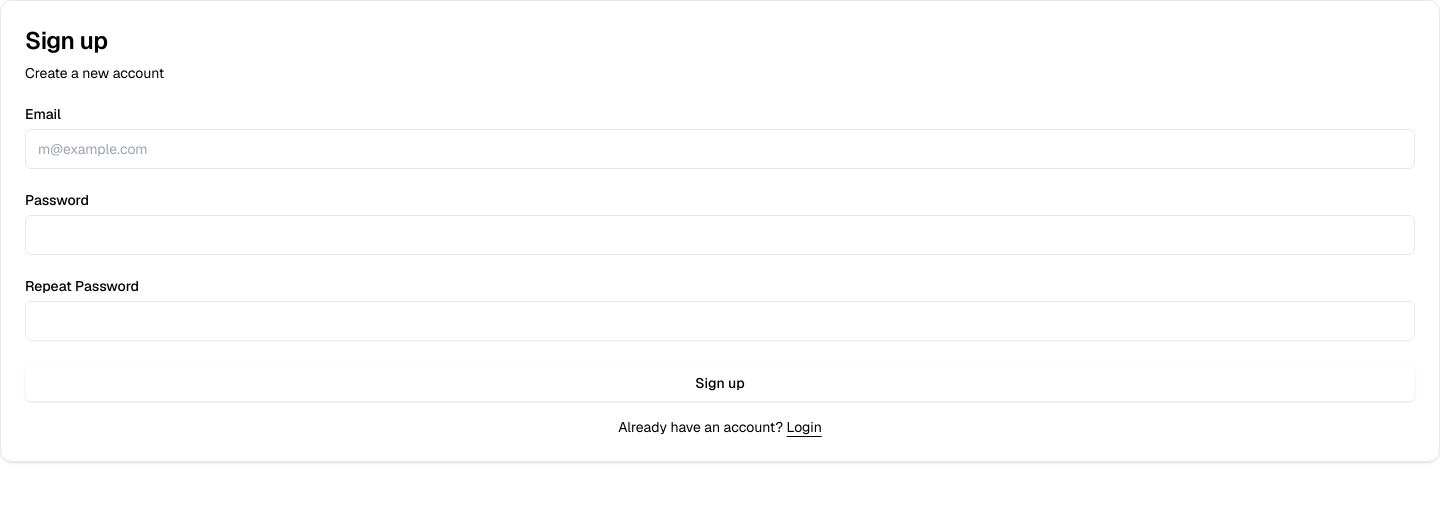
Test: SignUpForm › показывает ошибку при неудачной регистрации
Type "a@a.com" into the field labelled "Email" at (720, 149), box [25,129,1415,169]
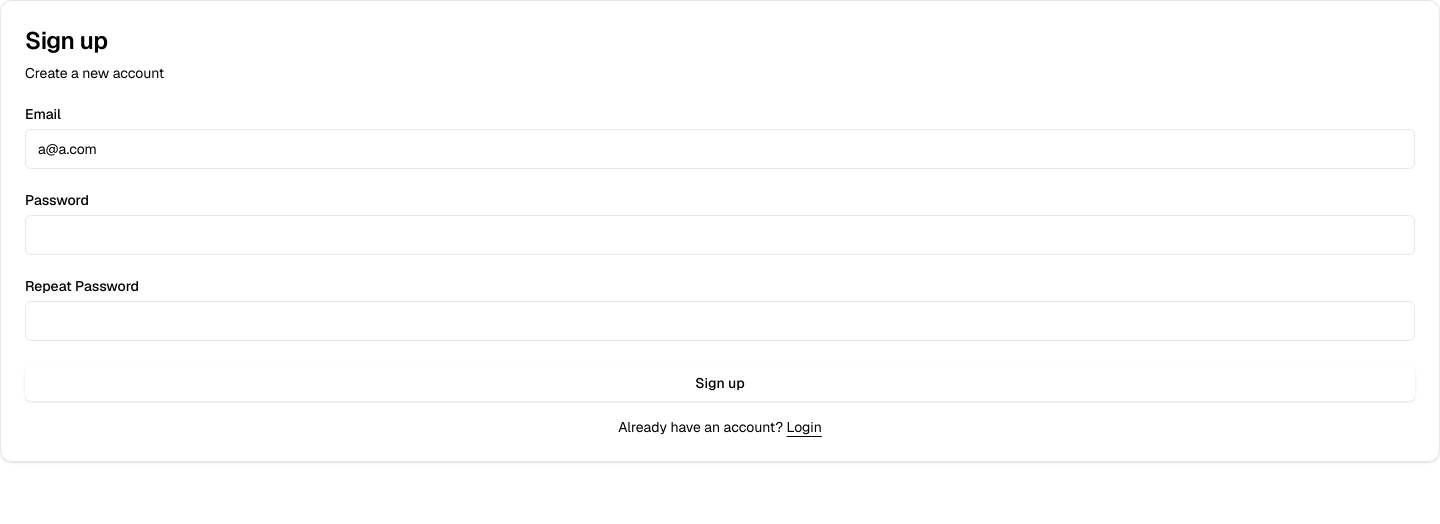
Type "123" into the password field labelled "Password" at (720, 235), box [25,215,1415,255]
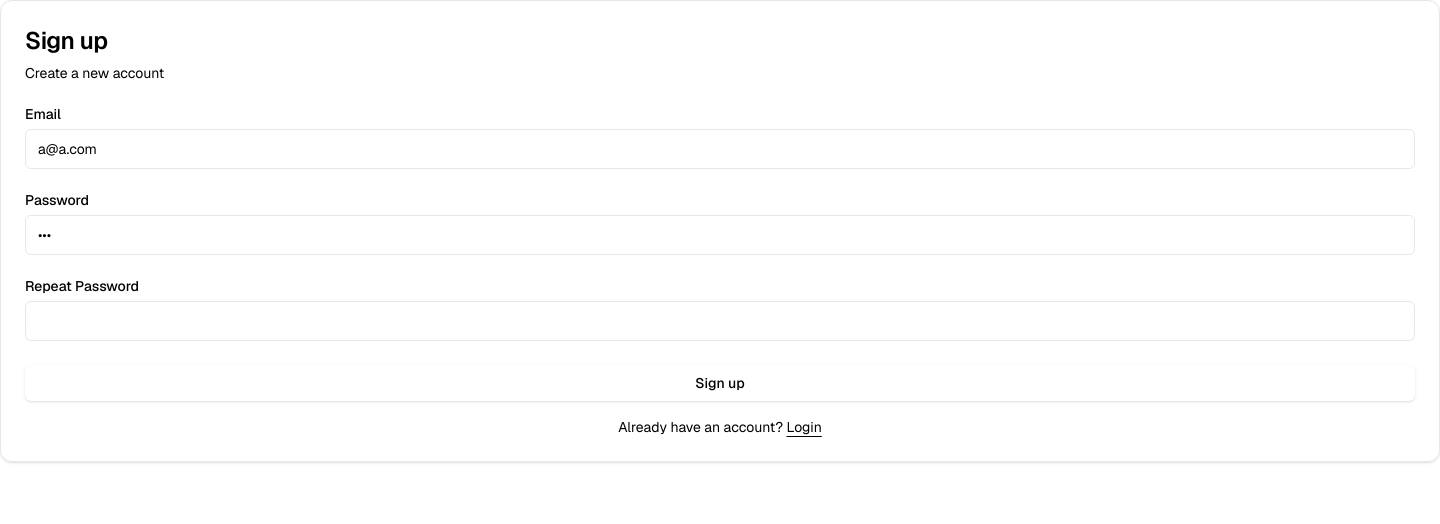
Type "123" into the password field labelled "Repeat Password" at (720, 321), box [25,301,1415,341]
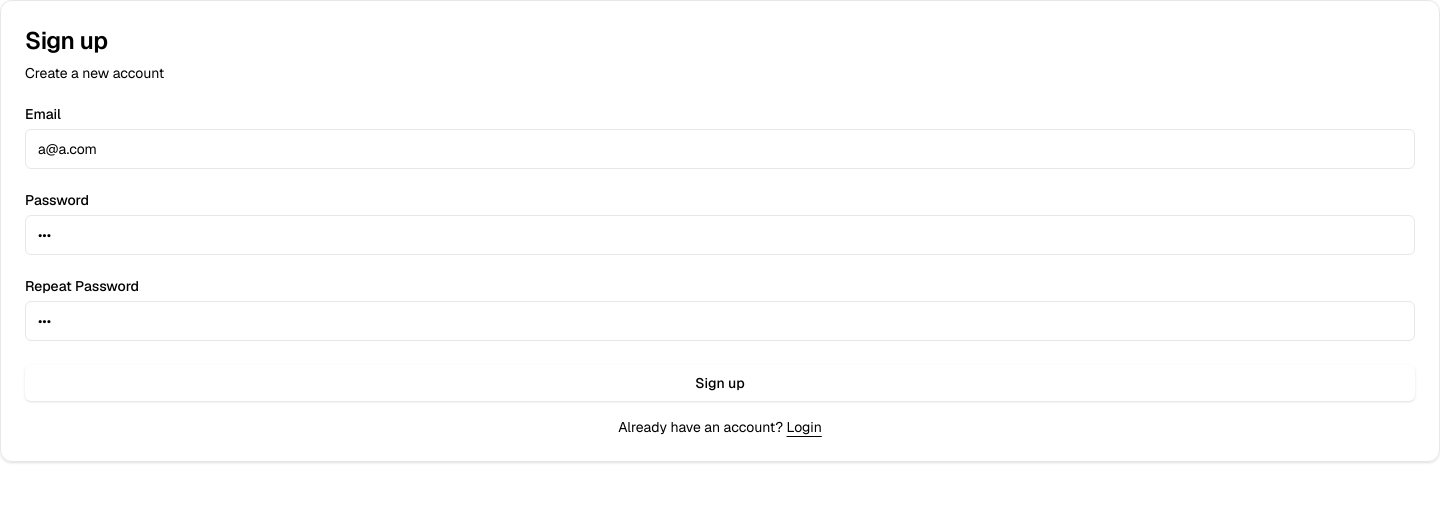
Submit the form with test id "sign-up-form"
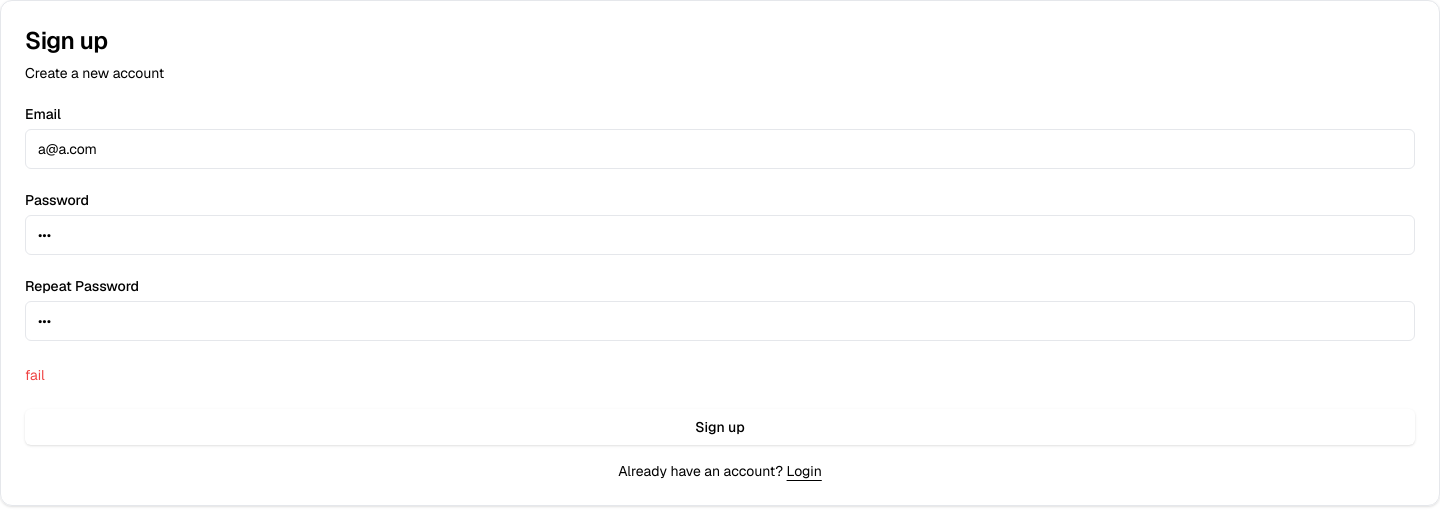
Check: the text "fail" is shown, box [25,366,45,384]
